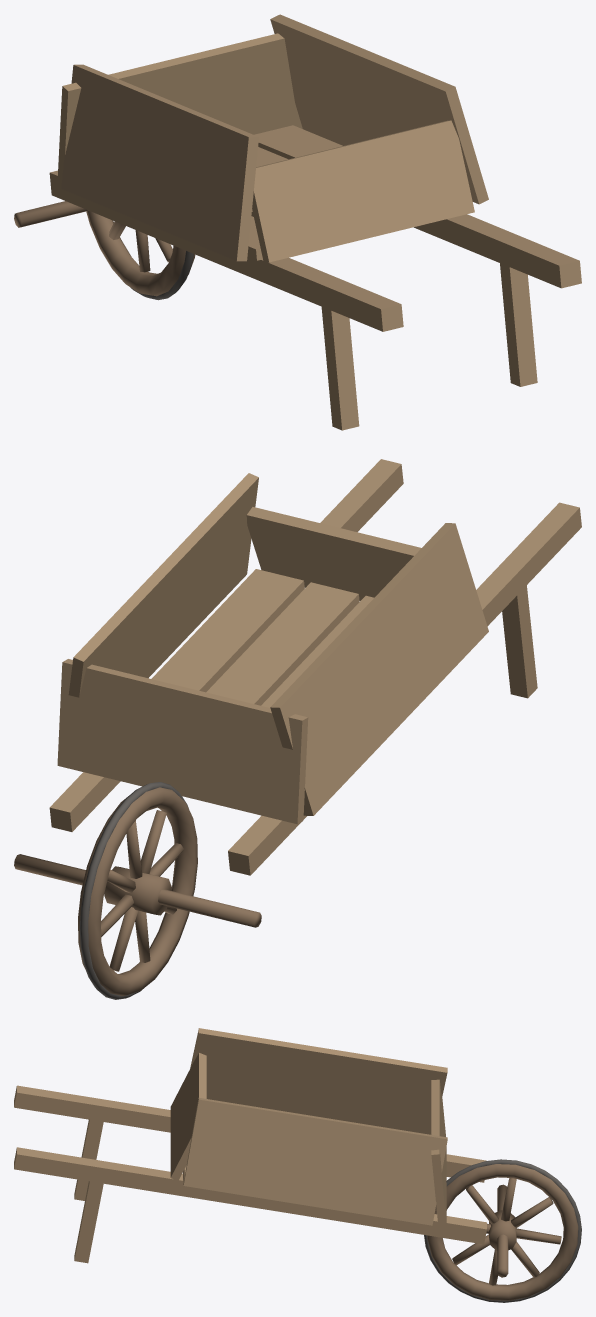
Rendered from wheelbarrow.glb.
The picture shows the model from 3 angles, top to bottom: view 1: azimuth 30°, elevation 25°; view 2: azimuth 150°, elevation 25°; view 3: azimuth 270°, elevation 25°; orthographic projection. The views are drawn at different scales.
Parts seen in each view (by area): view 1: barrow_wood, barrow_wheel, barrow_tyre; view 2: barrow_wood, barrow_wheel, barrow_tyre; view 3: barrow_wood, barrow_wheel, barrow_tyre.
Boxes of the visible parts, x1,y1,x2,y2 form: barrow_wood: (49,14,581,430); barrow_wheel: (14,201,195,296); barrow_tyre: (130,251,193,300); barrow_wood: (49,459,581,875); barrow_wheel: (14,787,261,995); barrow_tyre: (79,782,188,999); barrow_wood: (14,1028,486,1263); barrow_wheel: (427,1164,578,1300); barrow_tyre: (424,1159,581,1302).
Size of the model in its own units: 0.7359 by 0.9395 by 2.02.
